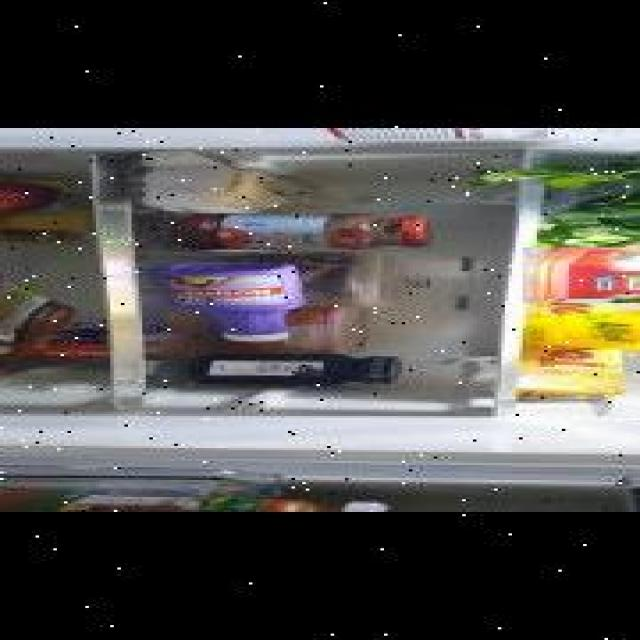apple: (0, 182, 82, 216)
butter: (519, 247, 640, 303)
leek: (0, 331, 110, 386)
marmelade: (158, 214, 428, 253), (185, 354, 402, 386)
tomato: (0, 252, 53, 286), (0, 256, 46, 286), (0, 237, 50, 260)
